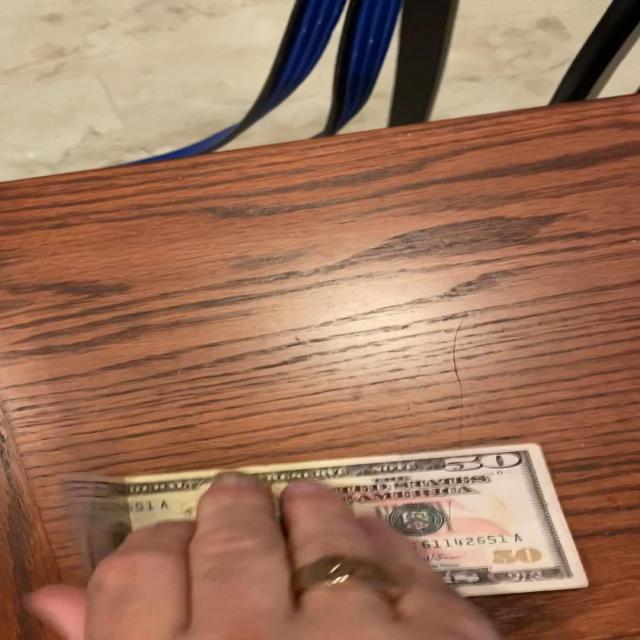50-Front: (43, 438, 603, 610)
